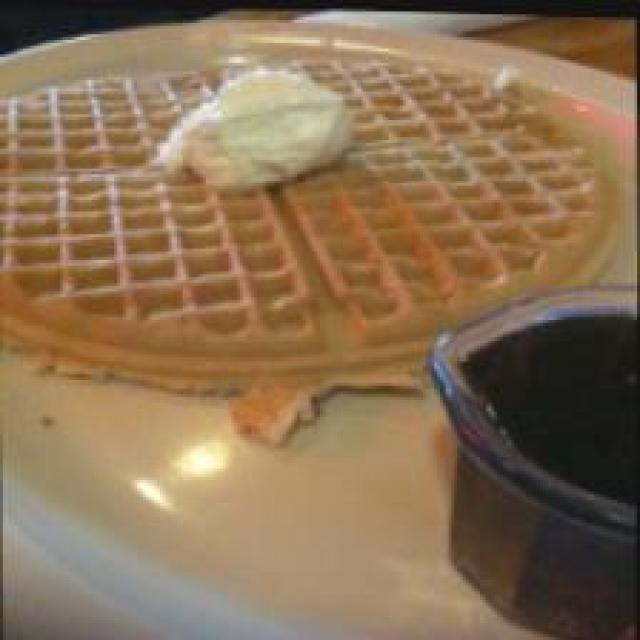Waffles: (0, 34, 629, 454)
